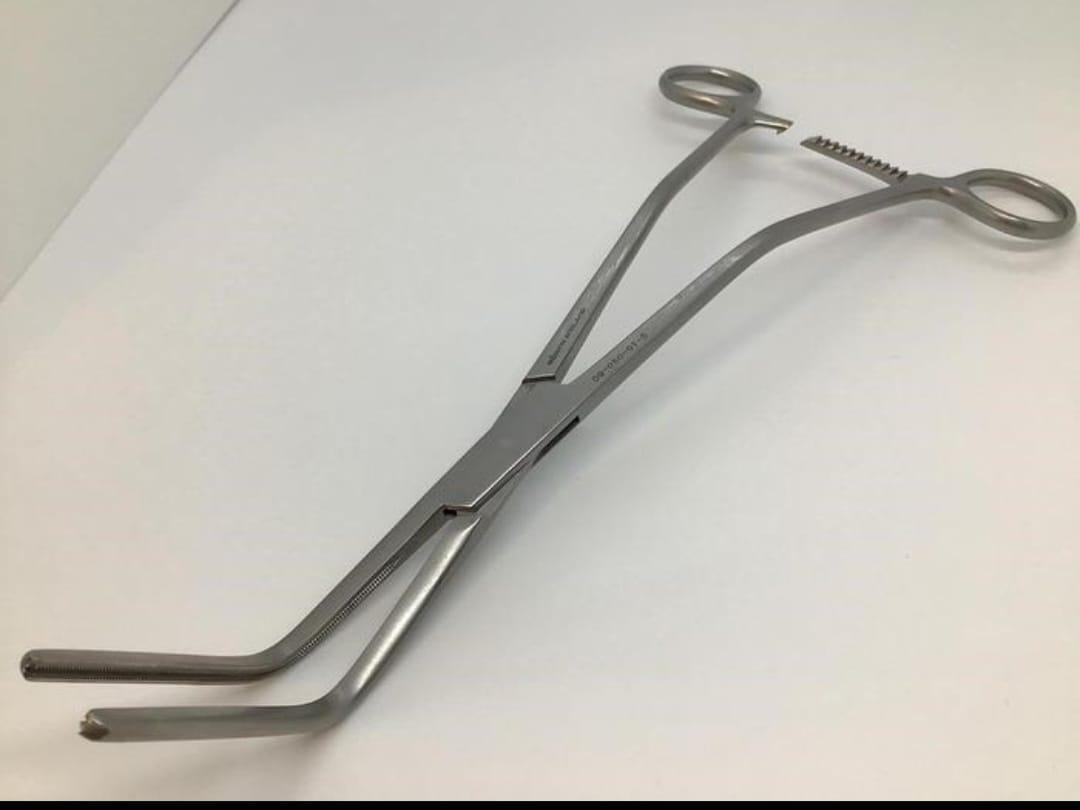Surgical blade: (18, 57, 1080, 748)
